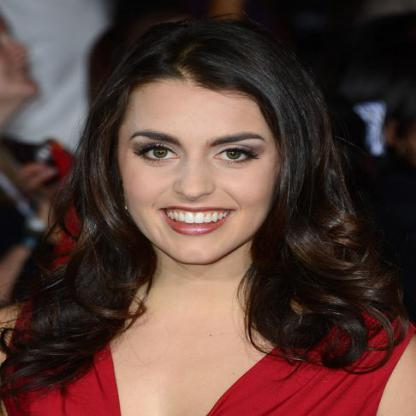long-hair: (50, 267, 375, 323)
